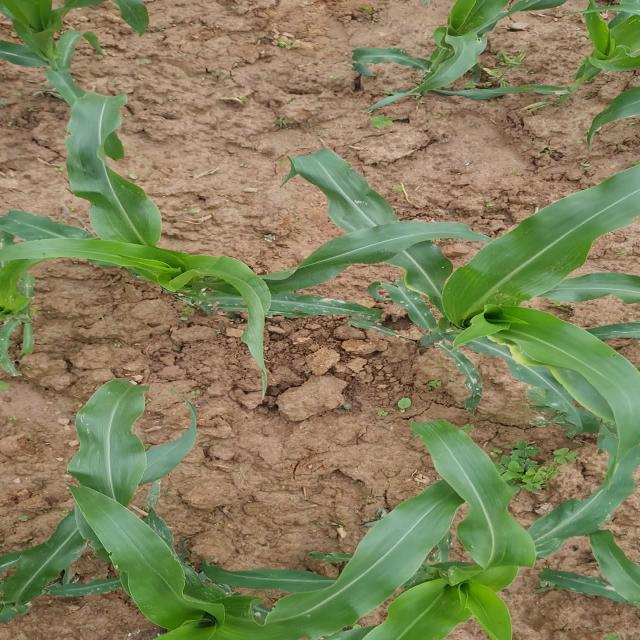maize: (3, 128, 640, 415), (51, 385, 518, 640), (358, 6, 640, 118), (0, 0, 160, 118), (518, 500, 640, 610)
weed: (507, 440, 572, 490)
